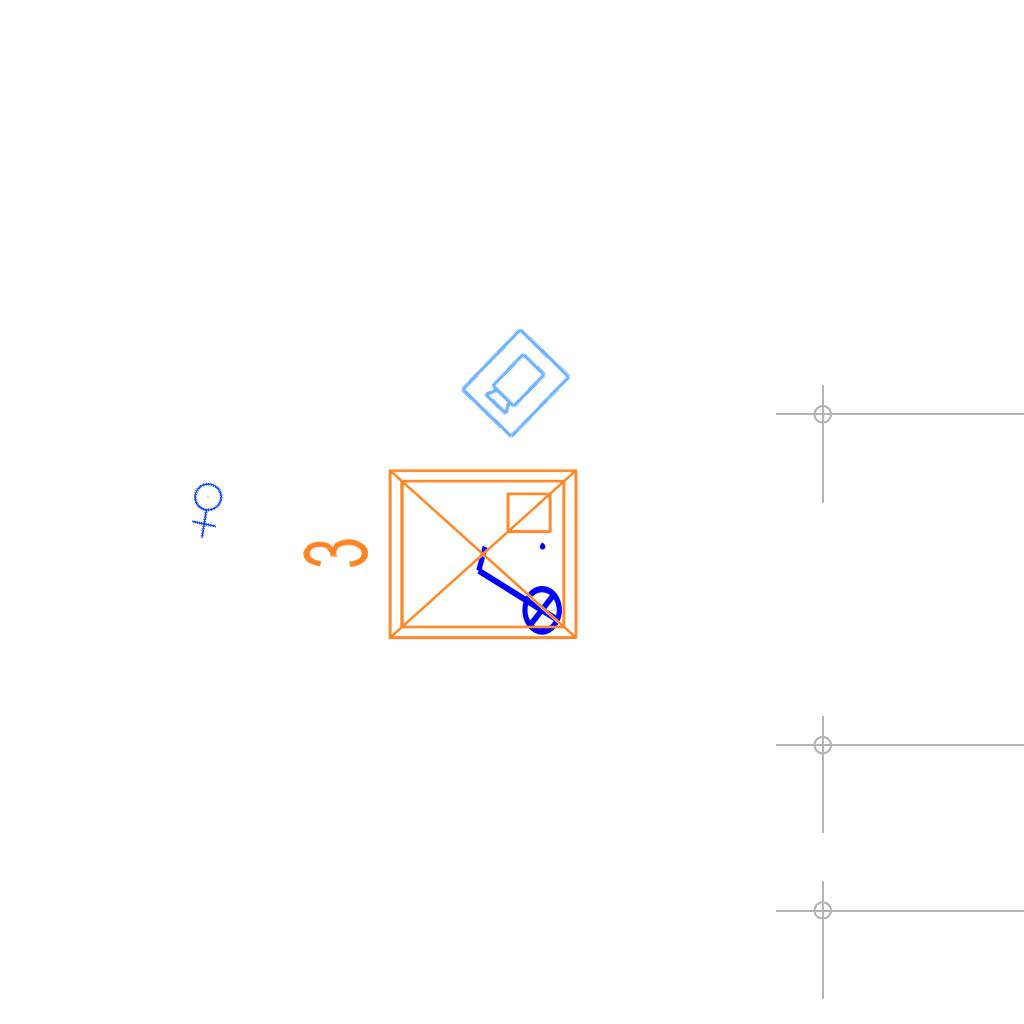Ausschalter_beleuchtet: (468, 537, 564, 649)
Einbaudownlights_LED_Konferenzraeume: (292, 454, 592, 662)
Elektroanschluss_allgemein_230V_Geraeteanschlussdose_230V: (174, 473, 243, 542)
KFO_Kamera_mit_Festobjektiv: (456, 323, 575, 442)
